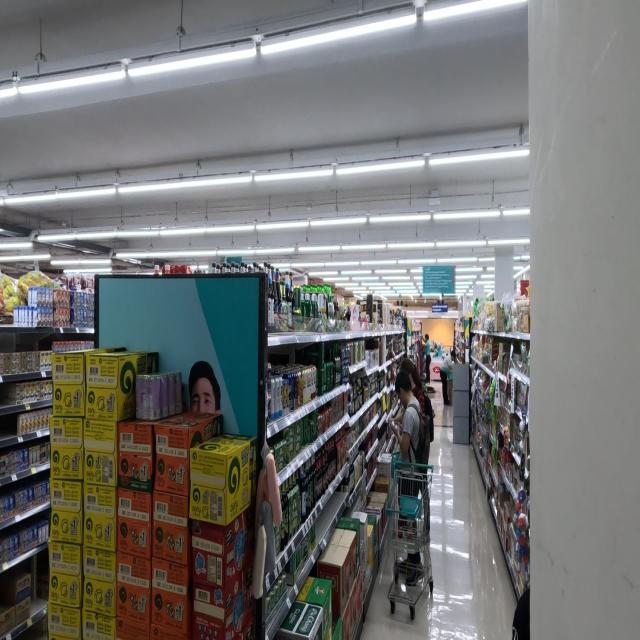shoplifting: (386, 362, 424, 504)
